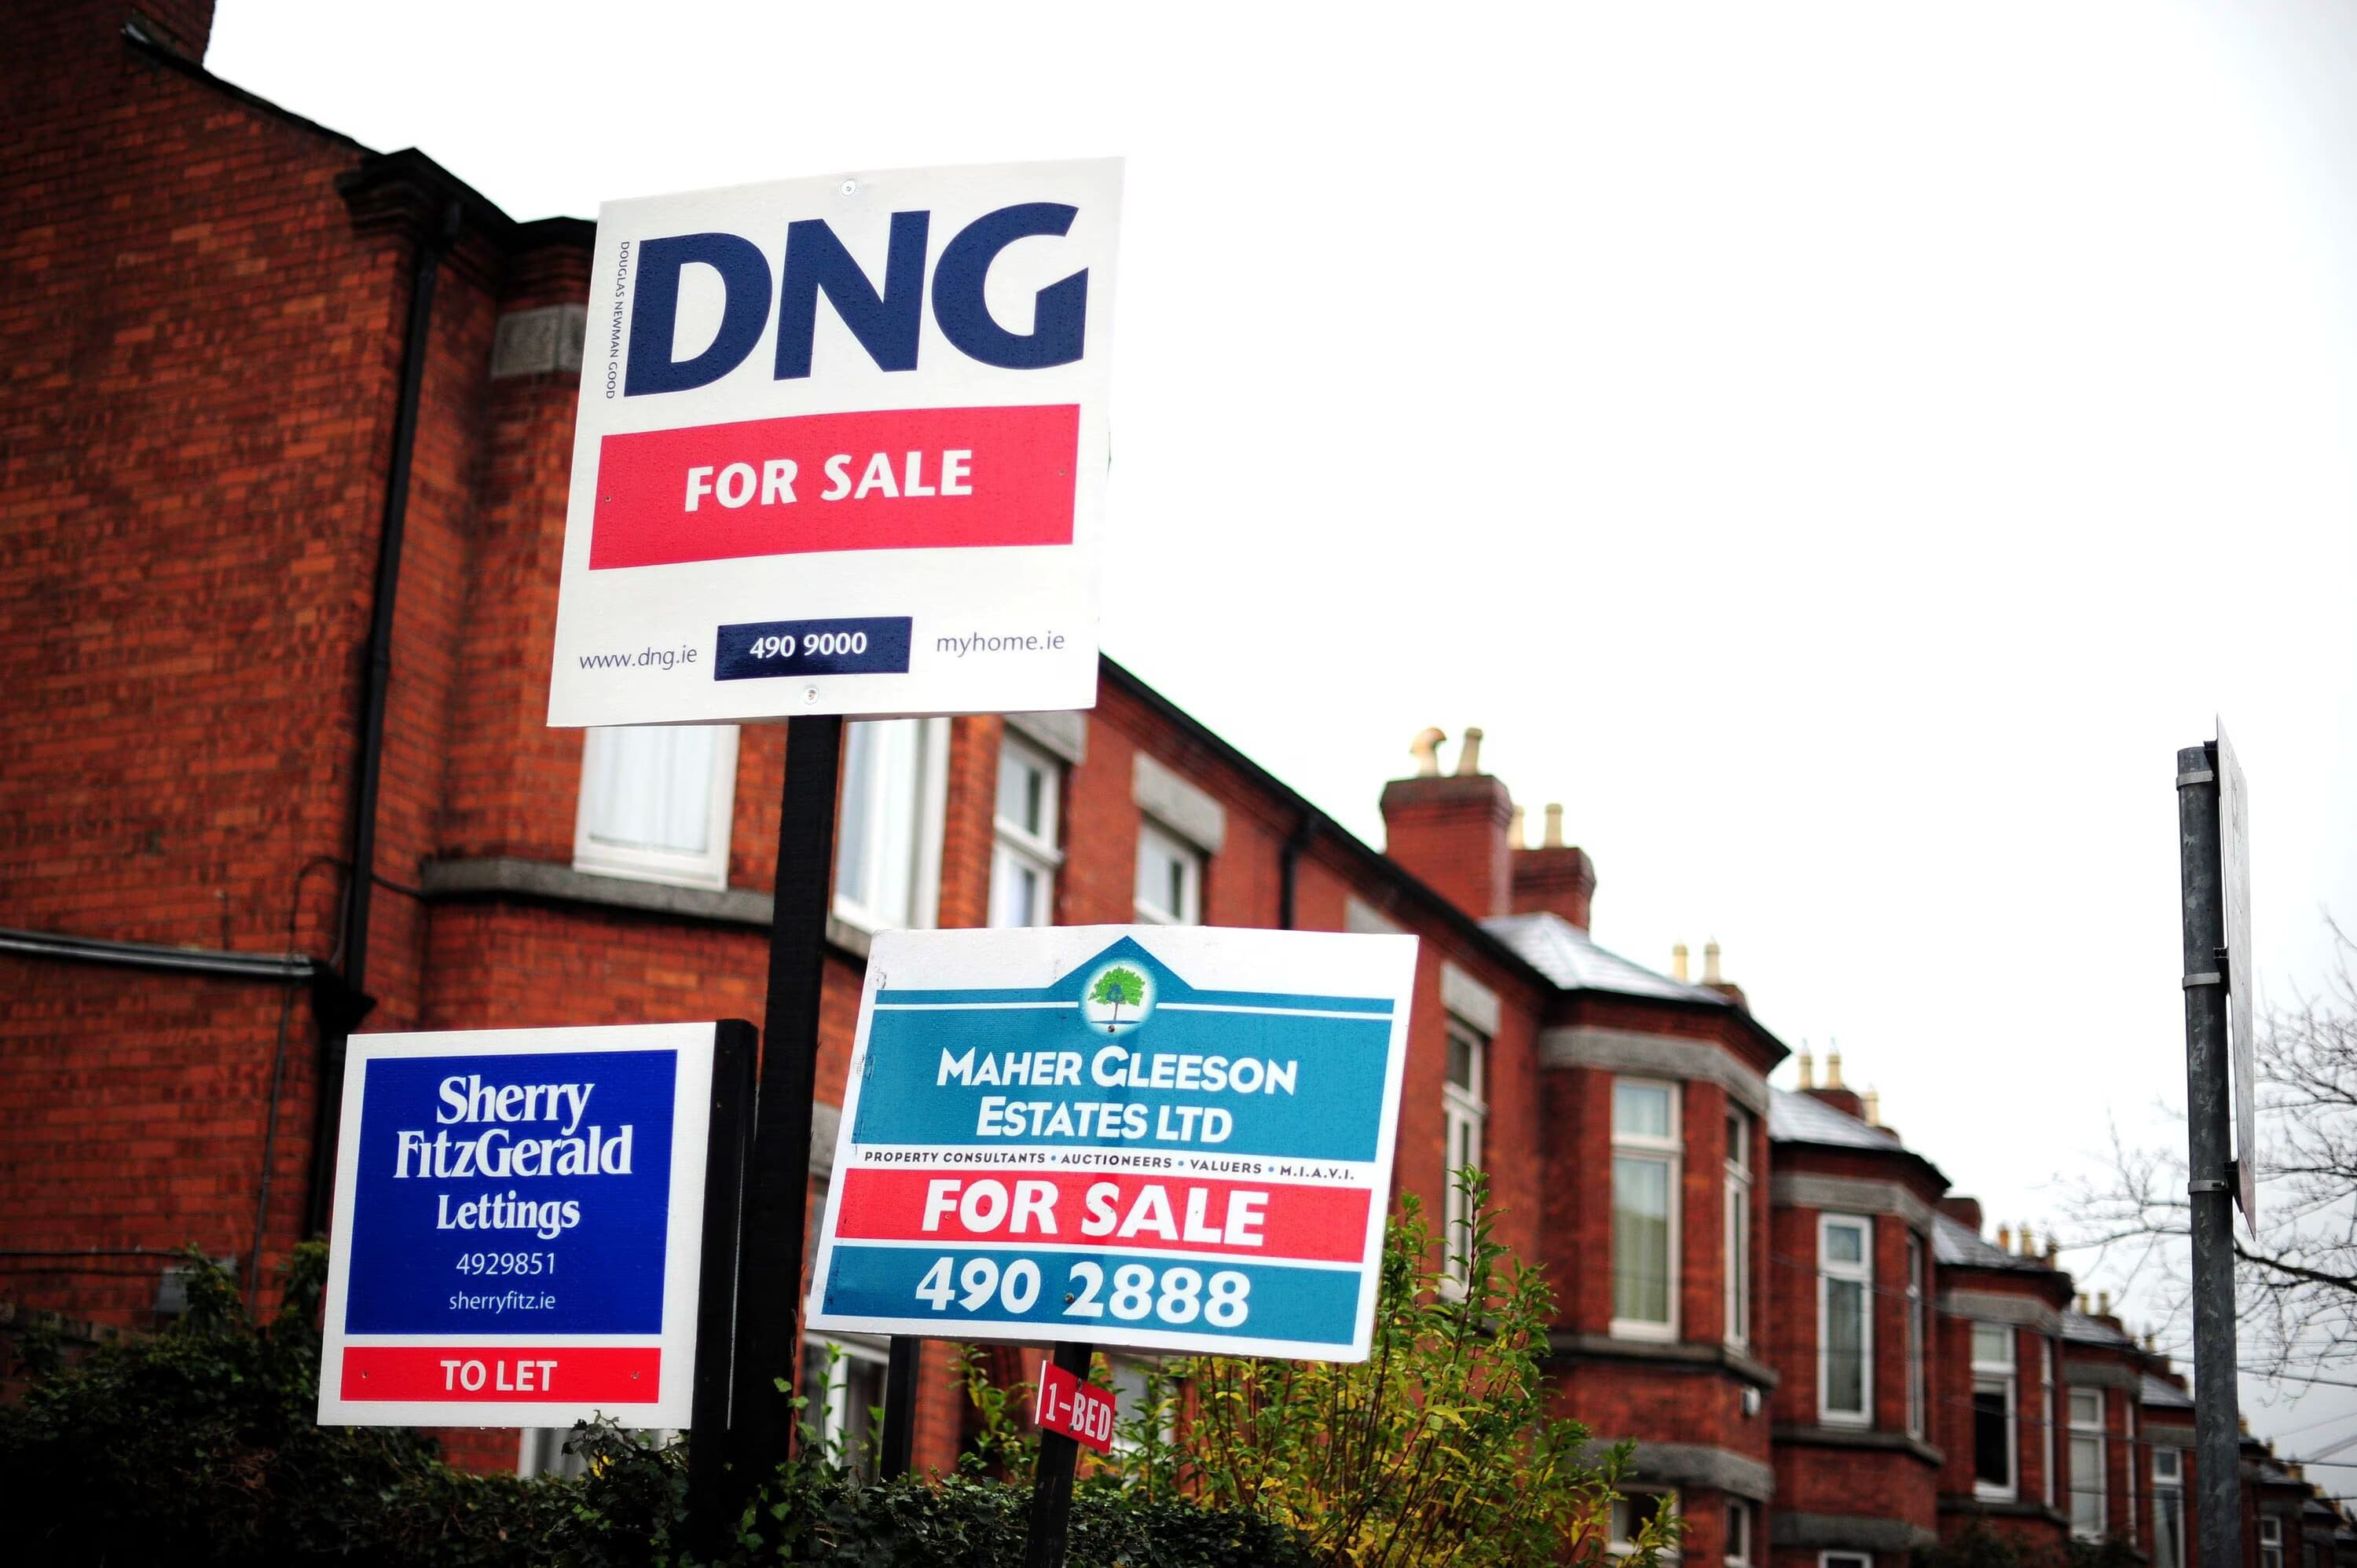property sign: (539, 147, 1164, 737), (821, 851, 1480, 1376), (268, 996, 714, 1446)
